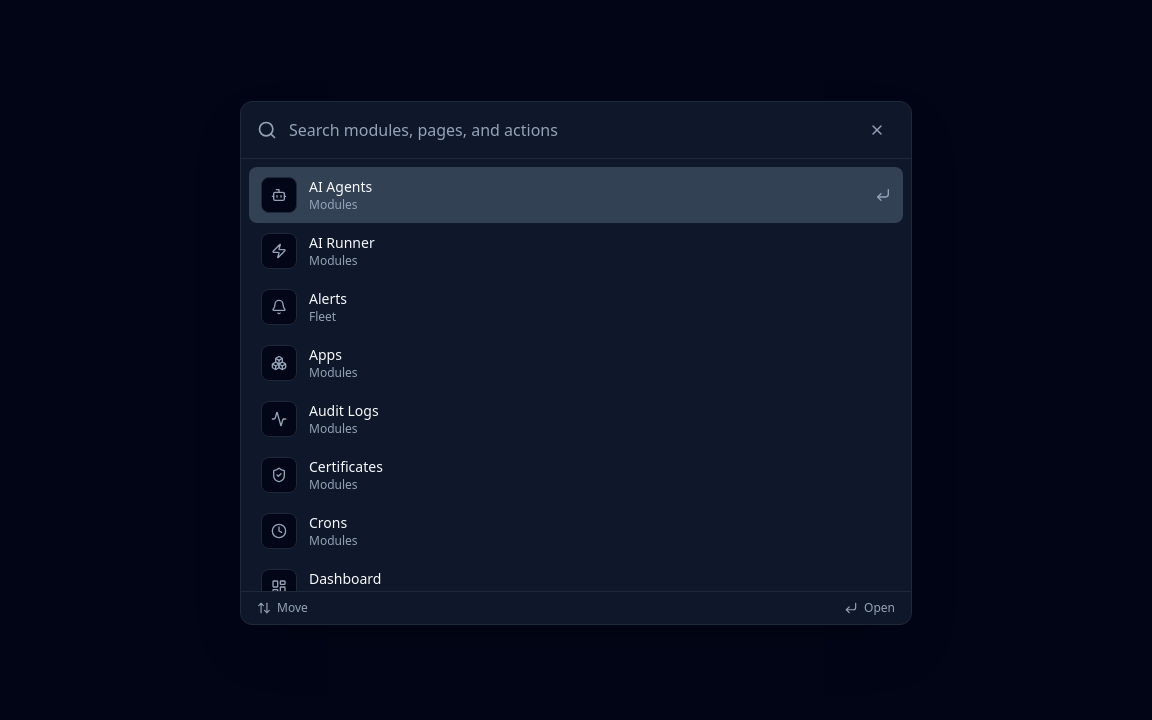
Scenario: CommandSearch › filters module and subview results with fuzzy typos
The width and height of the screenshot is (1152, 720).
Type "ai runer" into the dropdown at (568, 130), box [289,102,847,158]
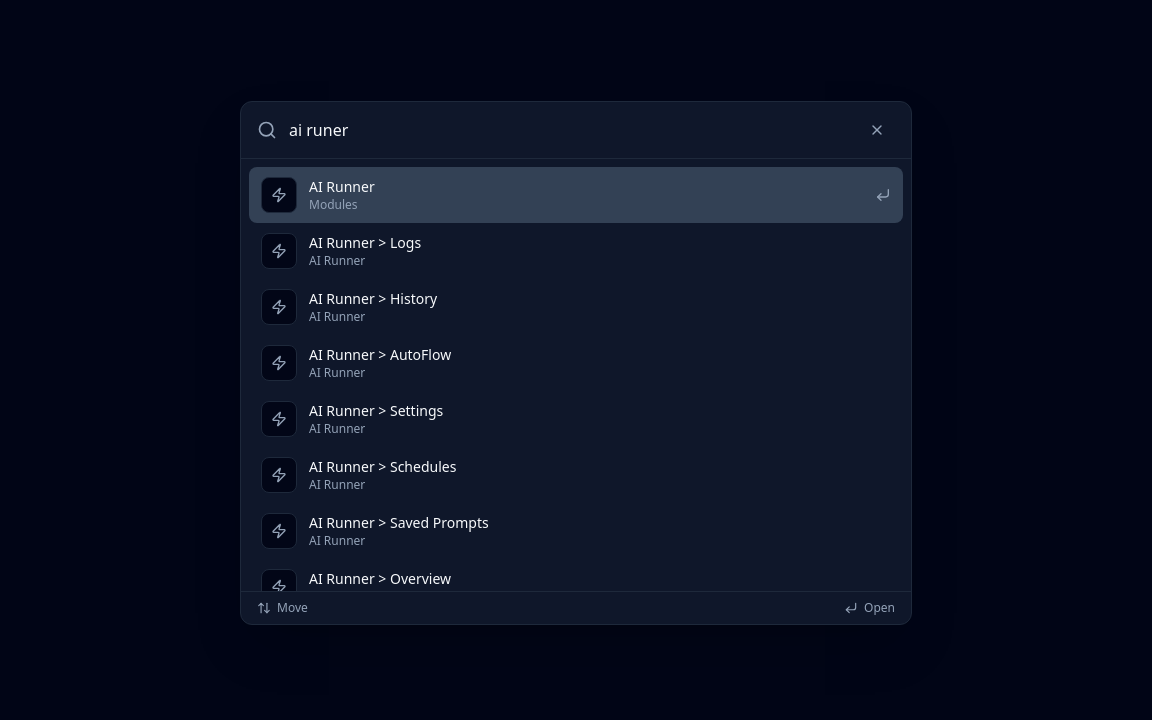
Expected: the 1st text "AI Runner" is shown, [309,177,375,196]
Result: the text "AI Runner > History" is shown at [309,289,437,308]
